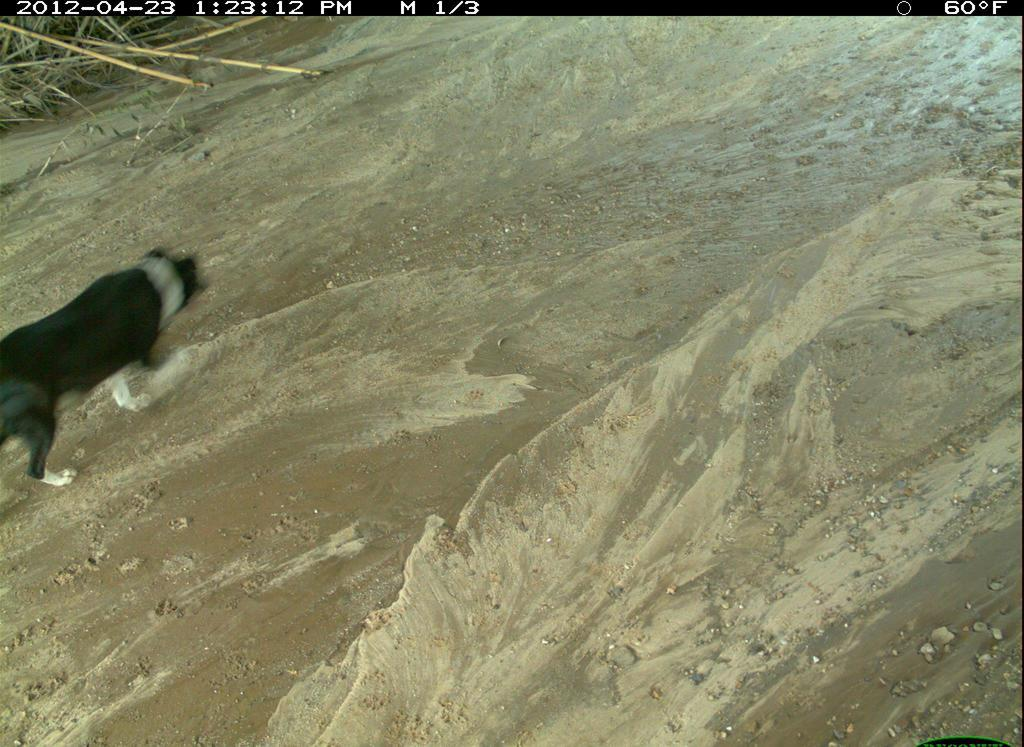dog: (1, 481, 429, 747)
